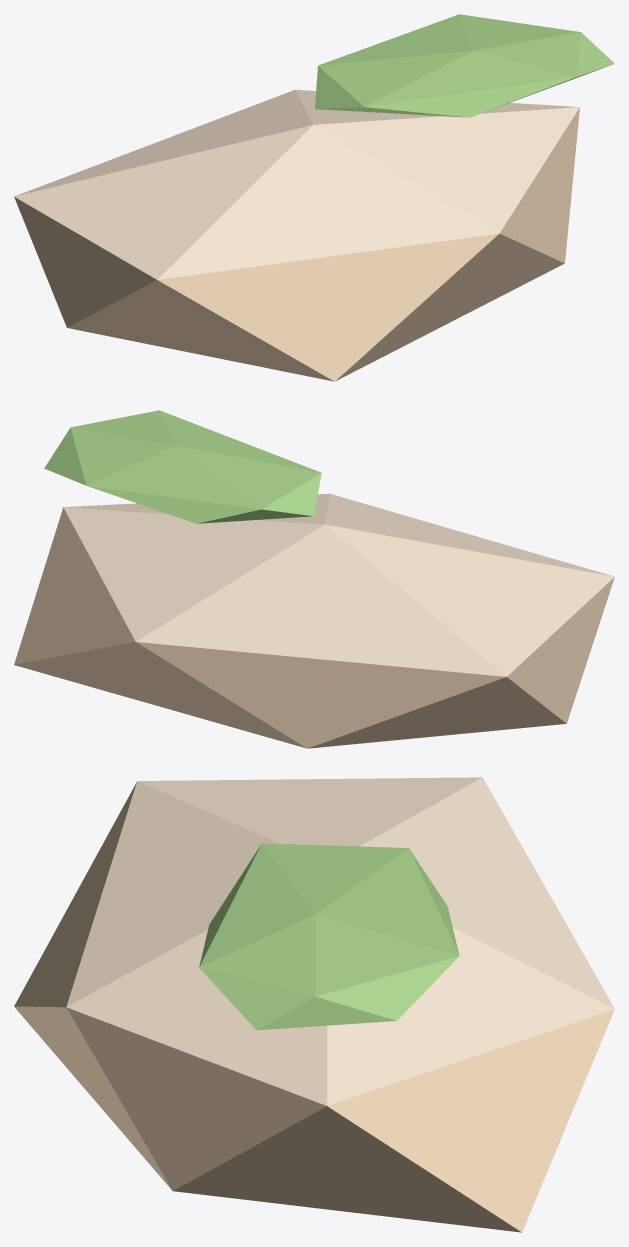
The model's file is PG_Rock_C.fbx.
The picture shows the model from 3 angles, top to bottom: view 1: azimuth 30°, elevation 25°; view 2: azimuth 150°, elevation 25°; view 3: azimuth 270°, elevation 25°; orthographic projection. The views are drawn at different scales.
Parts seen in each view (by area): view 1: PG_Rock_C; view 2: PG_Rock_C; view 3: PG_Rock_C.
Boxes of the visible parts, x1,y1,x2,y2 form: PG_Rock_C: (14, 14, 614, 381); PG_Rock_C: (14, 410, 614, 748); PG_Rock_C: (14, 777, 614, 1232).
Size of the model in its own units: 1.02 by 0.355 by 0.7474.
